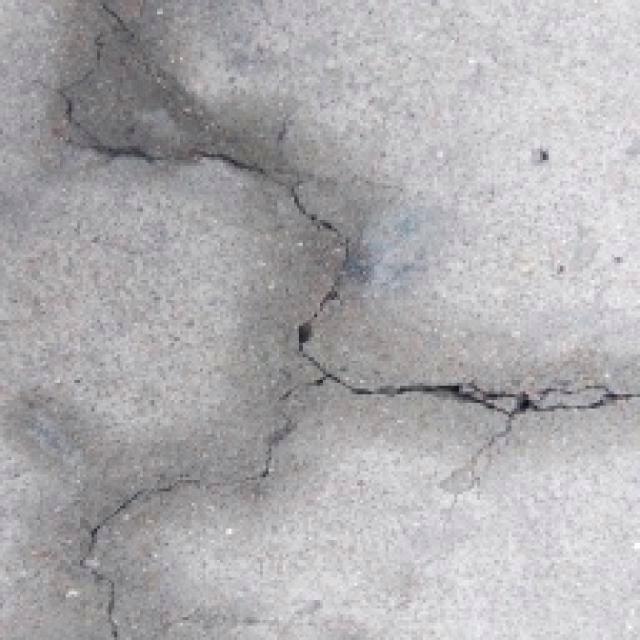SurfaceCrack: (50, 330, 640, 622), (54, 0, 368, 378)
